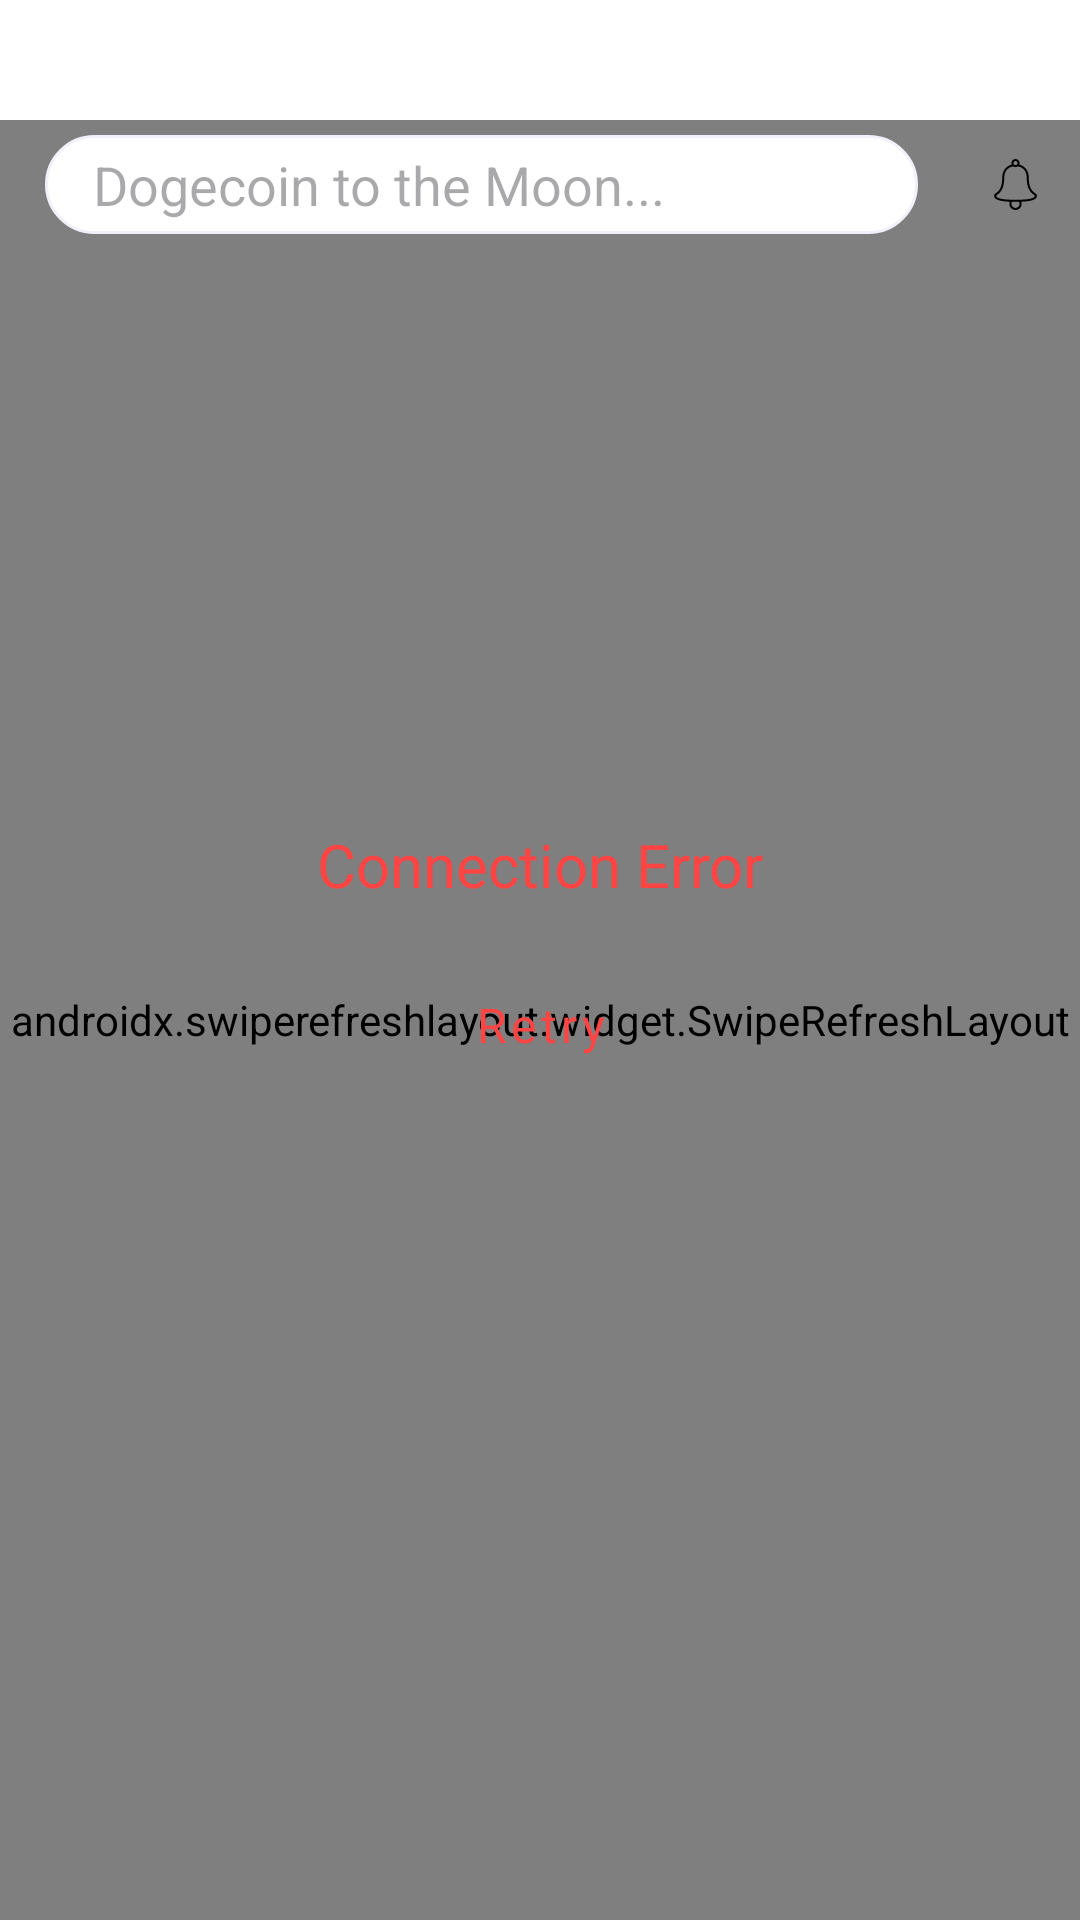

Locate icon controls on the screen. Image size 1080x1920, boxes as {"x1": x1, "y1": y1, "x2": x2, "y2": y2}.
notification: {"x1": 994, "y1": 159, "x2": 1037, "y2": 210}
